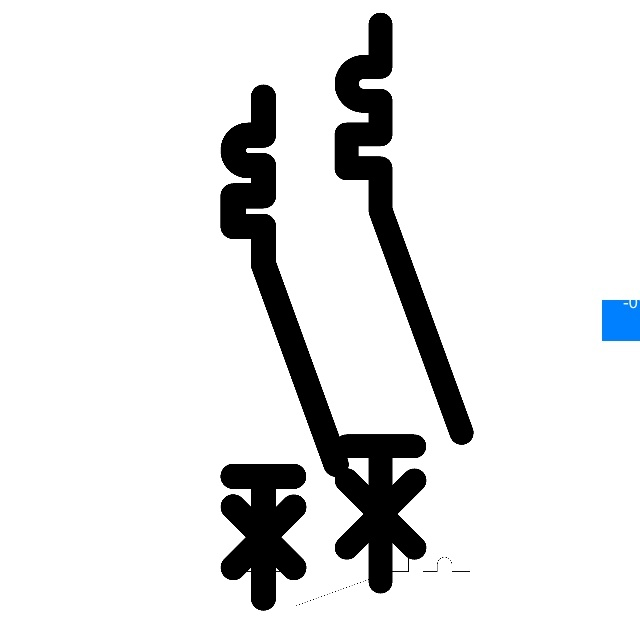interruptor_termomagnetico: (332, 10, 475, 596), (220, 84, 349, 611), (226, 551, 476, 612)
